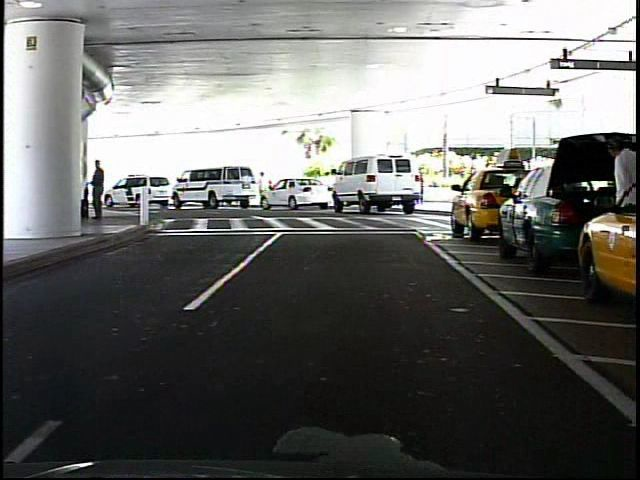person: (595, 132, 639, 284), (92, 157, 111, 224), (256, 170, 272, 206)
